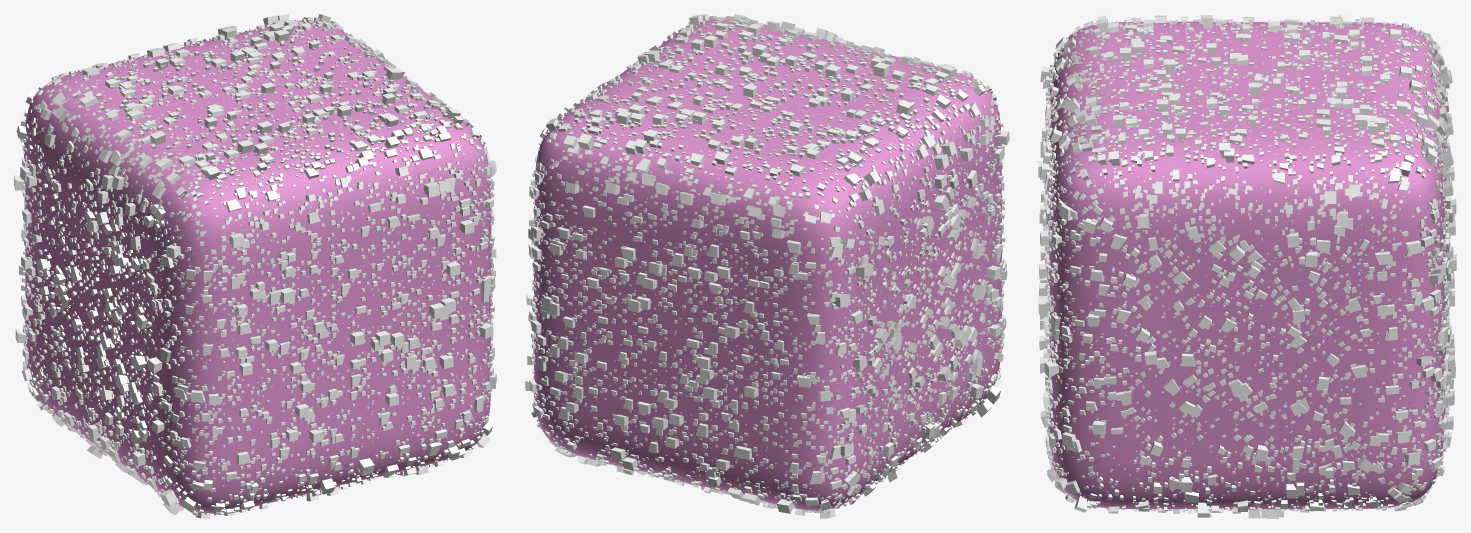
File: uploads_files_3609215_Jell_o.fbx
3 views of the same model, side by side, from view 1: azimuth 30°, elevation 25°; view 2: azimuth 150°, elevation 25°; view 3: azimuth 270°, elevation 25° (orthographic). The views are drawn at different scales.
Visible parts, largest first — view 1: Cube.002, Cube.005; view 2: Cube.002, Cube.005; view 3: Cube.002, Cube.005.
Part boxes in pixels (x1,y1,x2,y2): Cube.002: (24,20,491,513); Cube.005: (14,14,496,518); Cube.002: (534,18,1001,510); Cube.005: (525,14,1009,518); Cube.002: (1048,21,1446,509); Cube.005: (1038,14,1456,518).
Bounding box in the file's own units: 52.56 × 52.38 × 52.33.
